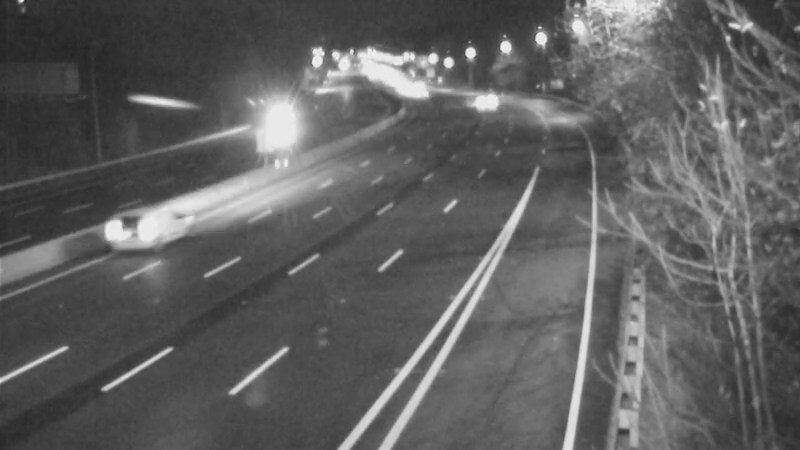vehicle: (93, 185, 173, 265), (457, 79, 507, 129), (257, 94, 307, 144)
